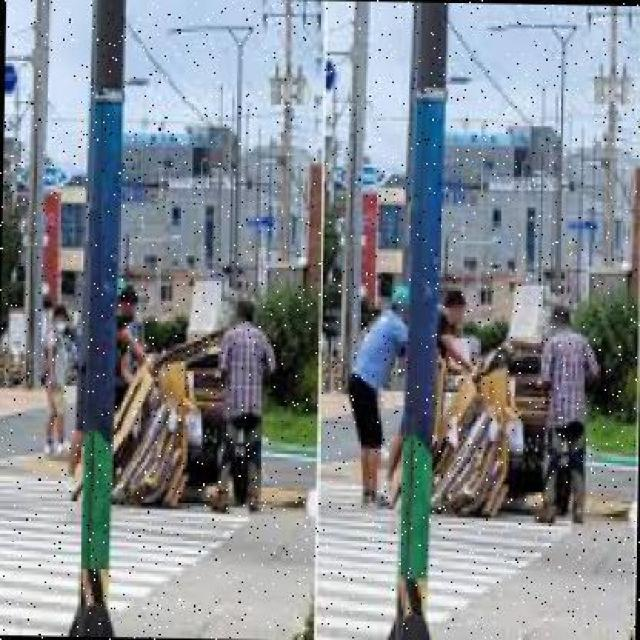Person: (533, 301, 598, 521), (346, 283, 409, 509), (212, 293, 274, 512), (40, 306, 69, 456)
